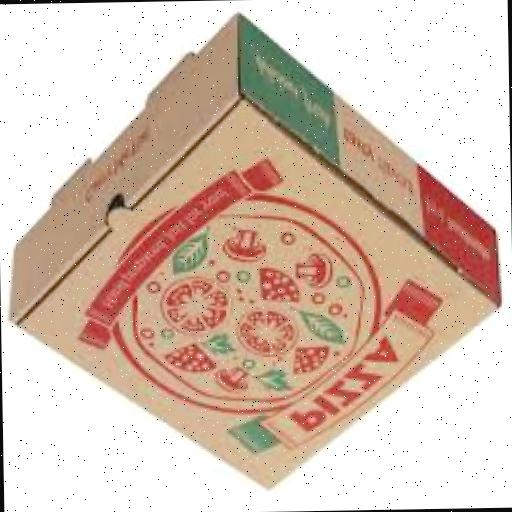cardboard: (2, 9, 503, 498)
